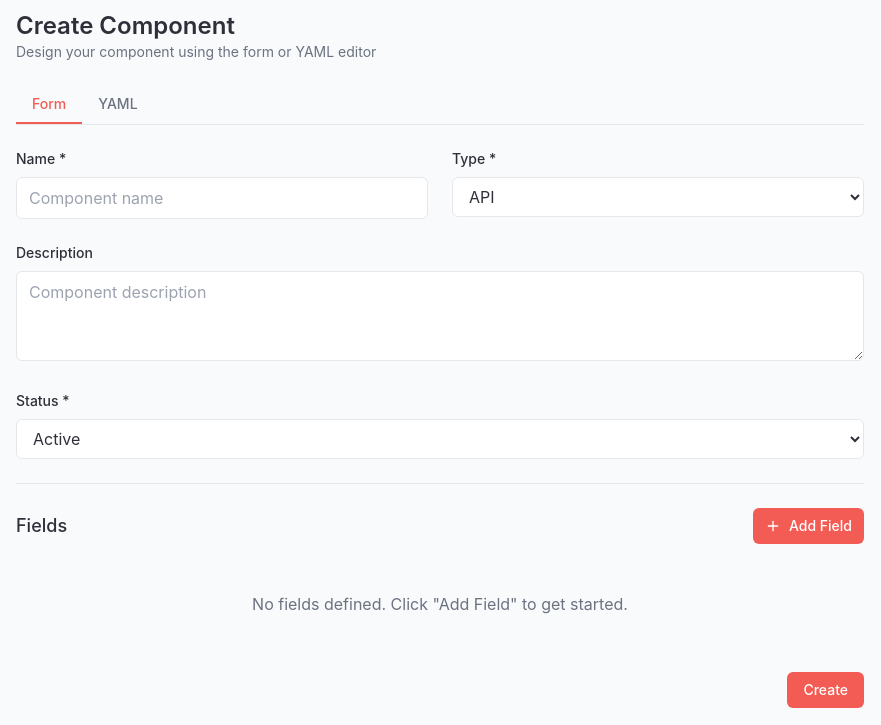
Scenario: ComponentDesigner › switches between form and YAML tabs
Click YAML tab
Click the button "YAML" at [118, 105], box [82, 86, 154, 124]
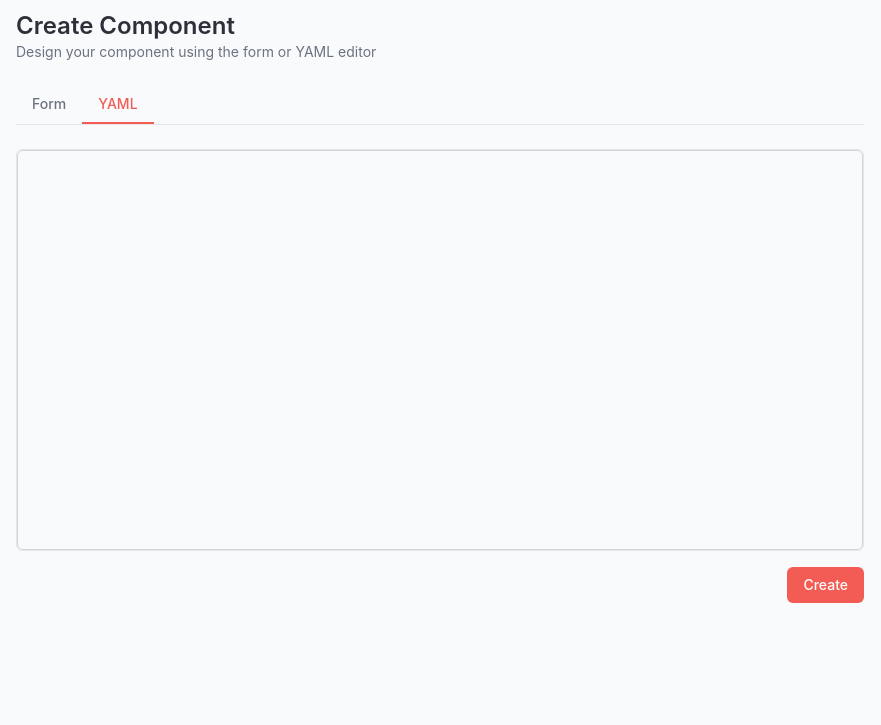
expect the field with test id "yaml-editor" is shown: met, box [17, 150, 863, 550]
